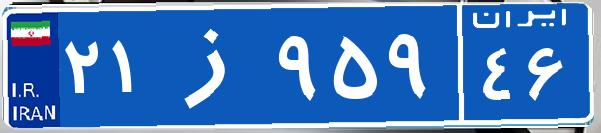1: (110, 28, 158, 105)
2: (57, 26, 110, 107)
4: (475, 38, 525, 113)
5: (330, 28, 385, 110)
6: (525, 38, 570, 115)
9: (385, 28, 445, 110), (273, 28, 330, 110)
ز: (158, 15, 273, 115)
